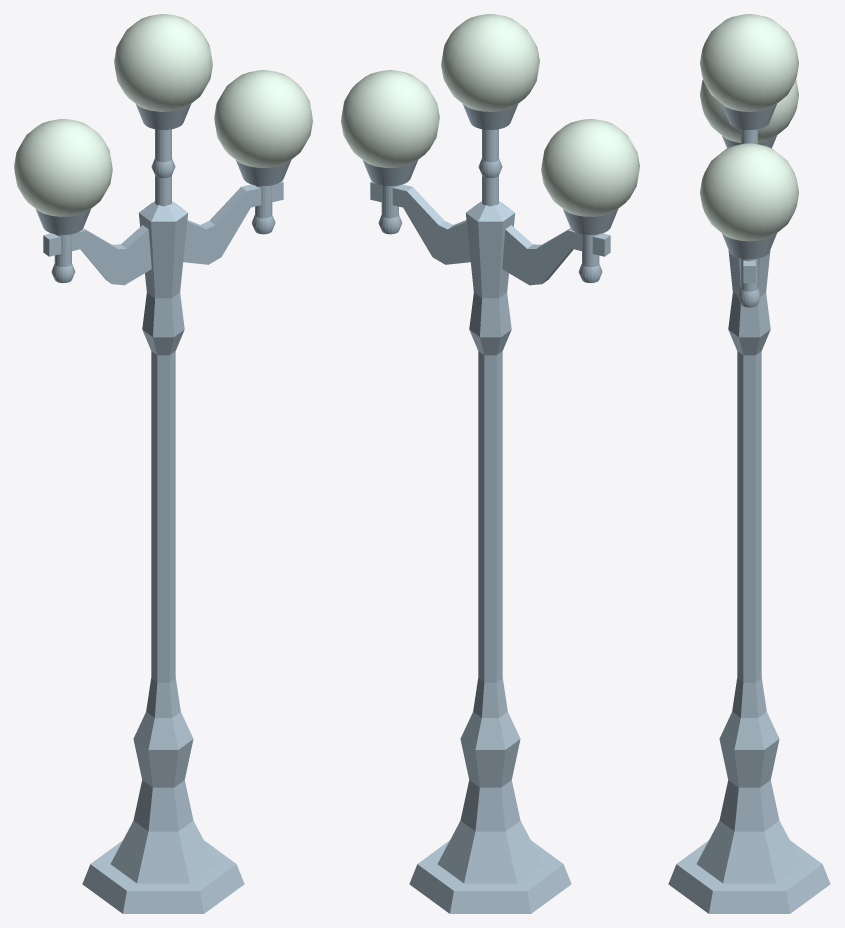
File: streetlight_14_d4.fbx
The picture shows the model from 3 angles, left to right: view 1: azimuth 30°, elevation 25°; view 2: azimuth 150°, elevation 25°; view 3: azimuth 270°, elevation 25°; orthographic projection.
Parts seen in each view (by area): view 1: streetlight_14_d4, pSphere20, pSphere22, pSphere21, pPlane22, pPlane21; view 2: streetlight_14_d4, pSphere20, pSphere22, pSphere21, pPlane22, pPlane21; view 3: streetlight_14_d4, pSphere22, pSphere20, pSphere21.
Part boxes in pixels (x1,y1,x2,y2): streetlight_14_d4: (82, 201, 244, 913); pSphere20: (114, 14, 212, 206); pSphere22: (214, 70, 312, 234); pSphere21: (14, 119, 112, 283); pPlane22: (43, 225, 151, 285); pPlane21: (183, 181, 283, 264); streetlight_14_d4: (409, 201, 571, 913); pSphere20: (441, 14, 539, 206); pSphere22: (341, 70, 439, 234); pSphere21: (541, 119, 639, 283); pPlane22: (502, 225, 610, 285); pPlane21: (370, 181, 470, 264); streetlight_14_d4: (668, 250, 830, 913); pSphere22: (700, 143, 798, 307); pSphere20: (700, 14, 798, 144); pSphere21: (700, 80, 798, 148).
Size of the model in its own units: 2.95 by 8.54 by 1.45.
